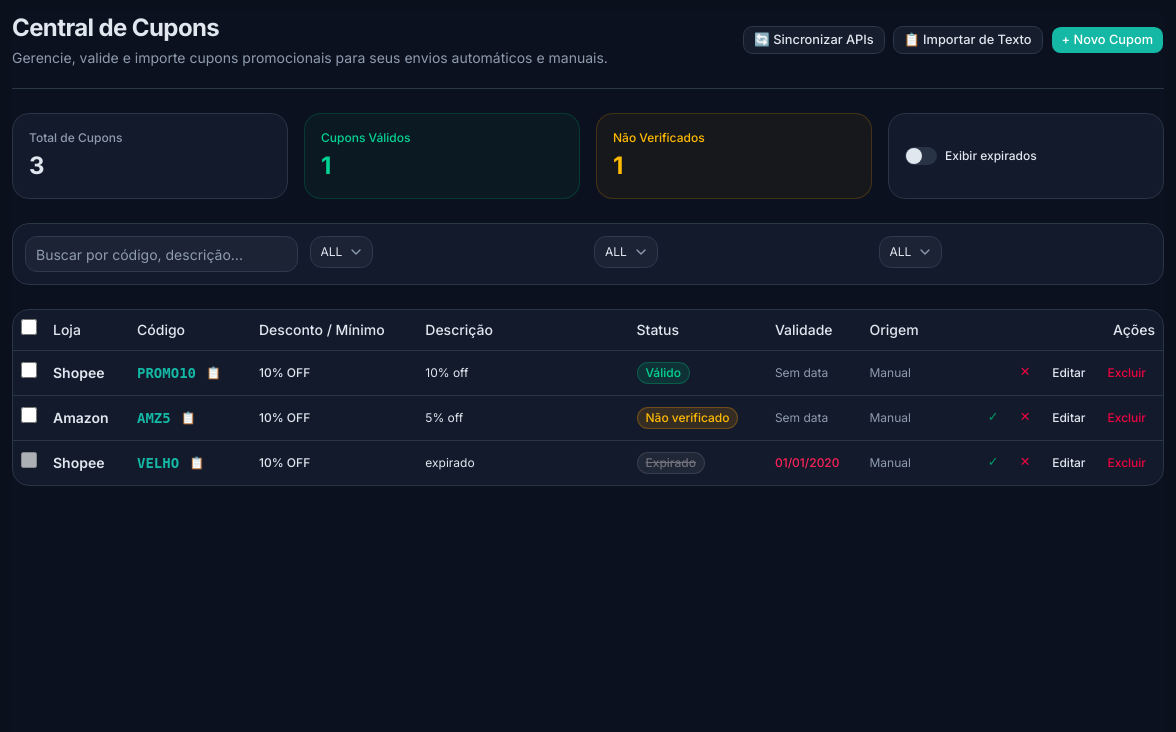
Test: seleção e despacho de cupons › "selecionar todos" marca só os elegíveis
Expected: the text "PROMO10" is shown, [137,362,196,382]
What coordinates should you click on to do the following:
click the checkbox named "Selecionar todos os cupons"
I would click on:
 (29, 327)
Its box is [21,319,37,335].
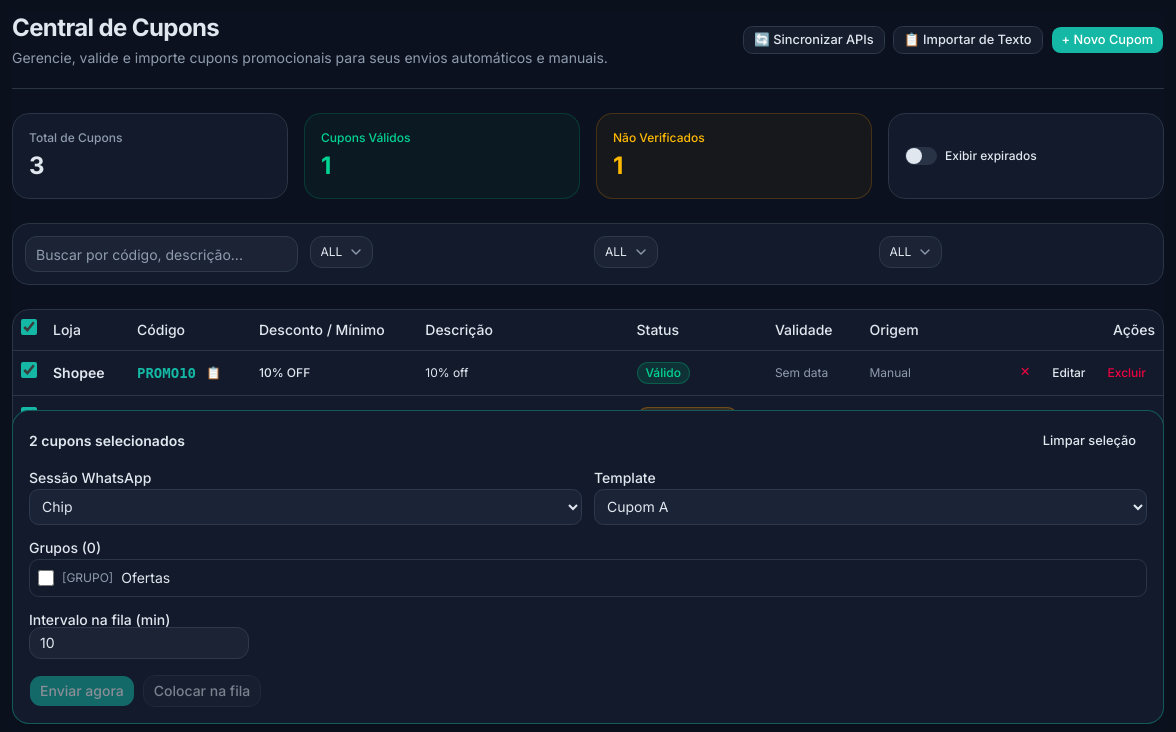
Now the text "2 cupons selecionados" is shown, box [29,431,185,451]
